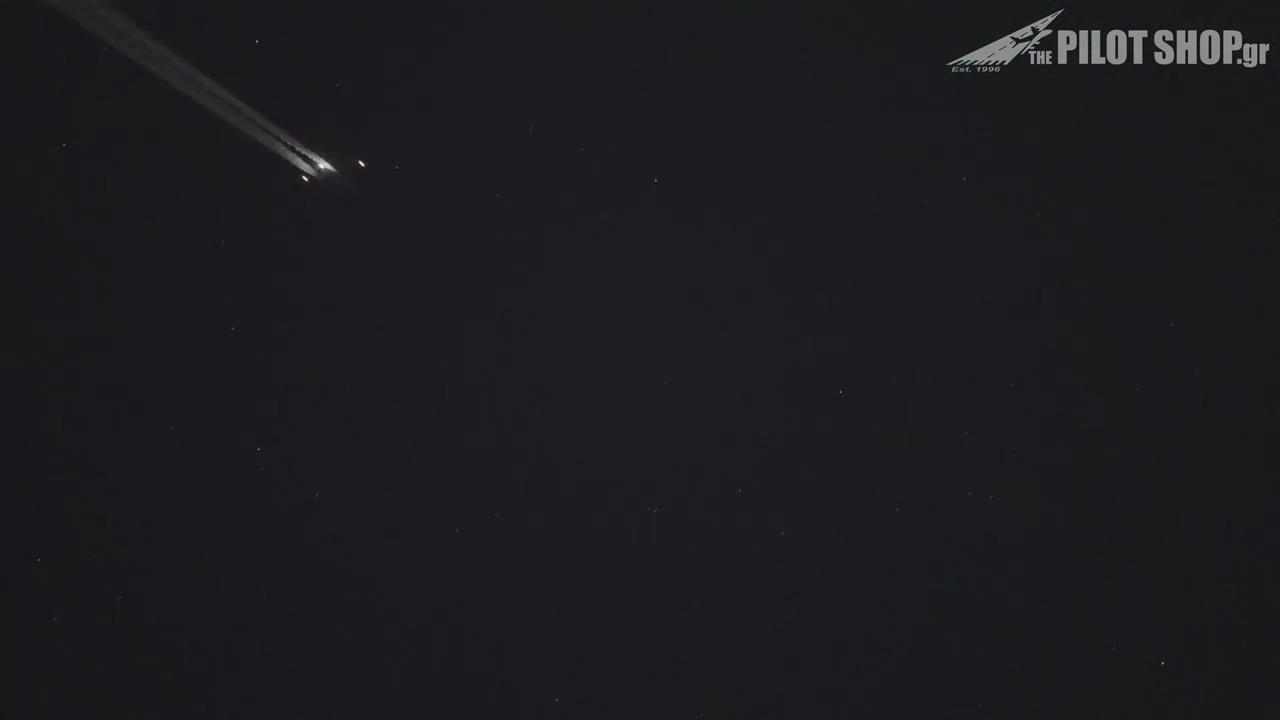Plane: (55, 5, 410, 212)
